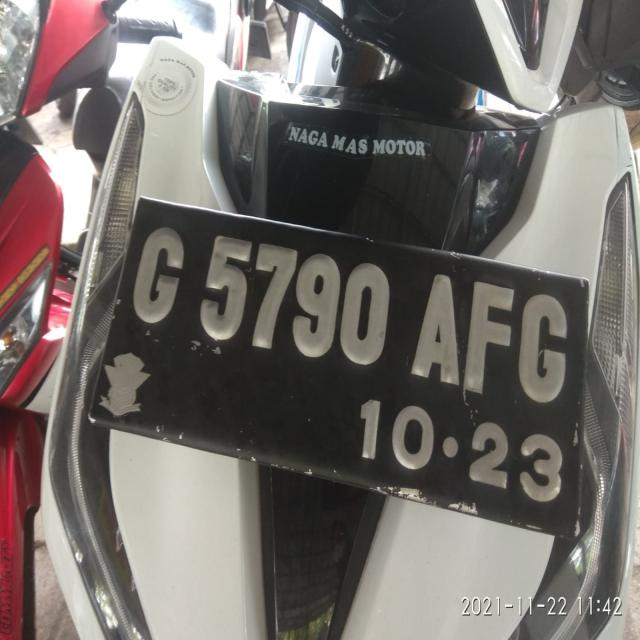plate: (87, 192, 584, 547)
